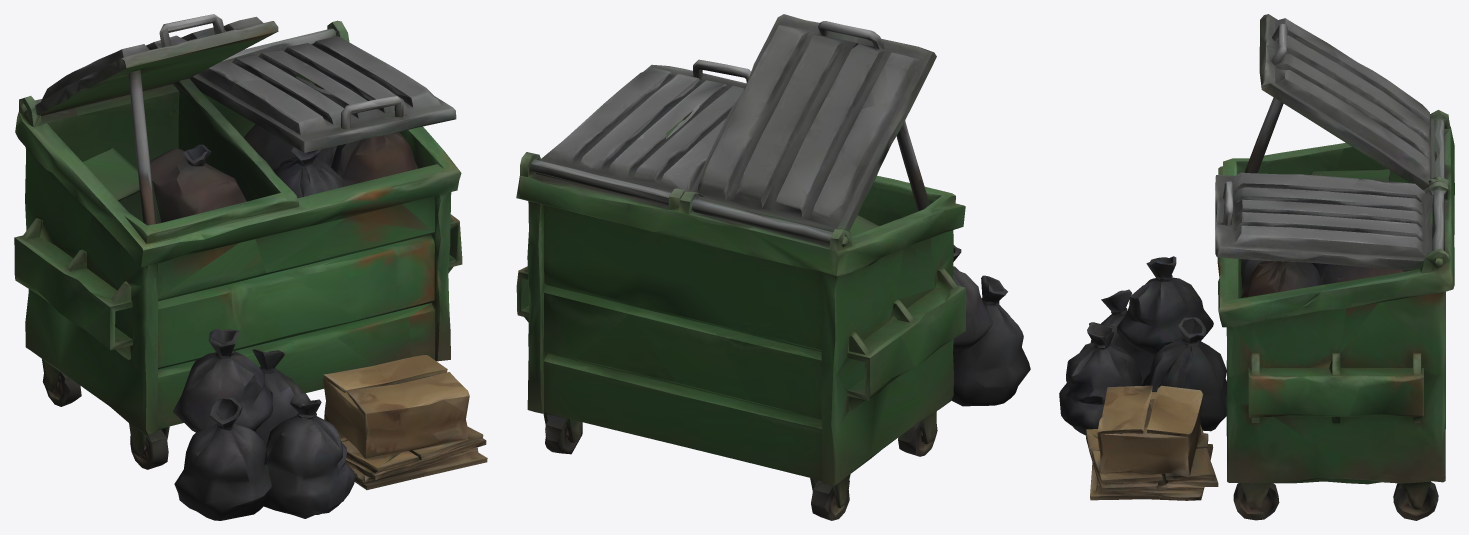
The model's file is isle_dumpster_idle.glb.
3 renders of one model, left to right at view 1: azimuth 30°, elevation 25°; view 2: azimuth 150°, elevation 25°; view 3: azimuth 270°, elevation 25°, orthographic. The views are drawn at different scales.
Visible parts, largest first — view 1: tripo_node_46dd9ec4-f8a4-475f-89ff-576562c52e6f; view 2: tripo_node_46dd9ec4-f8a4-475f-89ff-576562c52e6f; view 3: tripo_node_46dd9ec4-f8a4-475f-89ff-576562c52e6f.
Boxes of the visible parts, box(x1,y1,x2,y2) form: tripo_node_46dd9ec4-f8a4-475f-89ff-576562c52e6f: box(14, 14, 487, 520); tripo_node_46dd9ec4-f8a4-475f-89ff-576562c52e6f: box(516, 14, 1030, 520); tripo_node_46dd9ec4-f8a4-475f-89ff-576562c52e6f: box(1059, 14, 1454, 520).
Size of the model in its own units: 2 by 2.3 by 2.12.
Materials: 1 (1 with a texture image).
